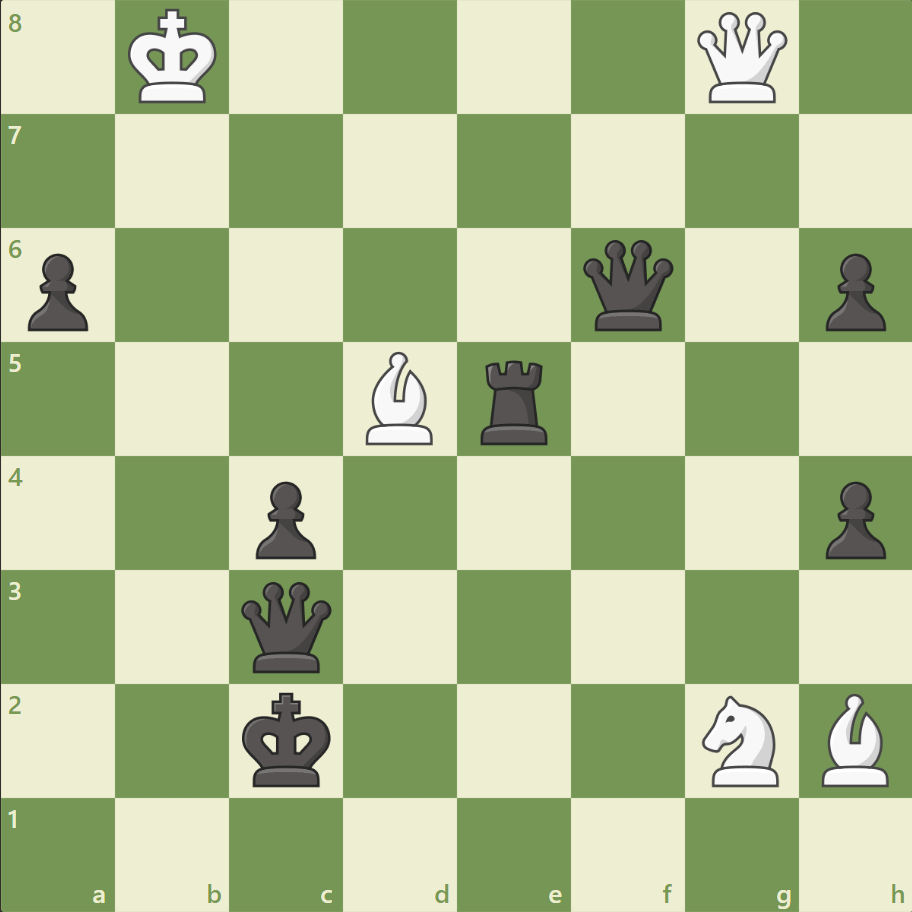B: (812, 687, 896, 790), (358, 347, 442, 449)
K: (124, 4, 224, 112)
N: (692, 688, 789, 791)
Q: (691, 9, 790, 108)
k: (238, 685, 338, 793)
p: (20, 246, 95, 337), (247, 473, 322, 564), (815, 246, 889, 337), (815, 473, 889, 564)
q: (237, 576, 336, 676), (578, 236, 677, 335)
r: (473, 352, 556, 449)
